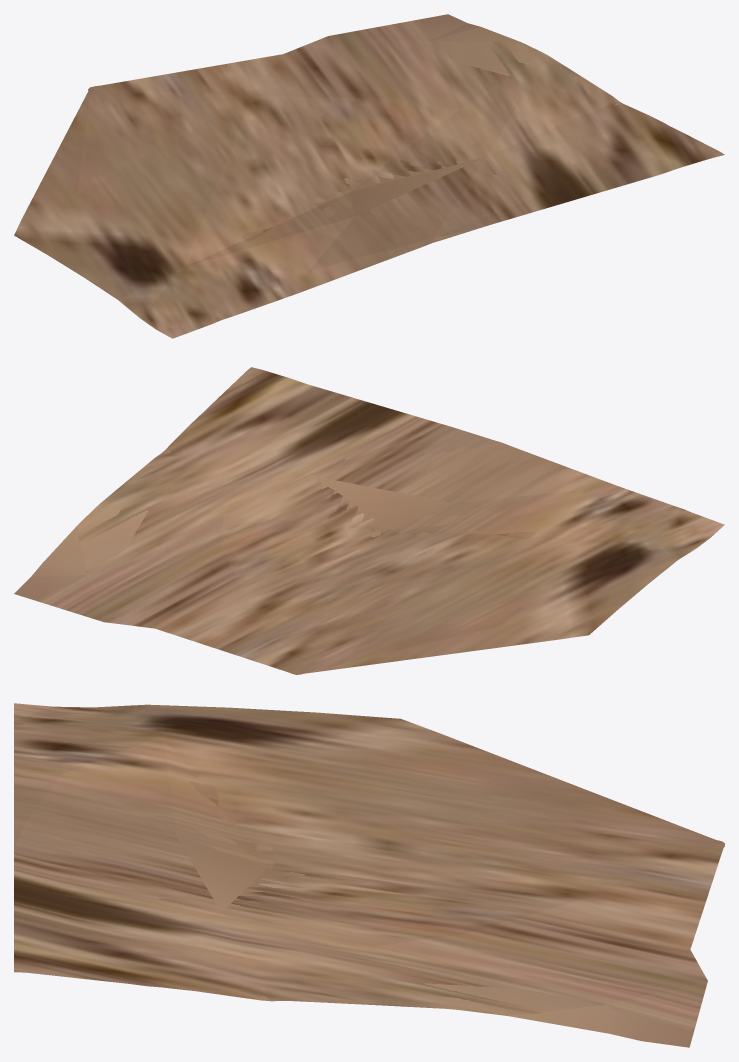
The picture shows the model from 3 angles, top to bottom: view 1: azimuth 30°, elevation 25°; view 2: azimuth 150°, elevation 25°; view 3: azimuth 270°, elevation 25°; orthographic projection. The views are drawn at different scales.
Size of the model in its own units: 1.04 by 0.1118 by 0.9542.
Materials: 2 (2 with a texture image).
